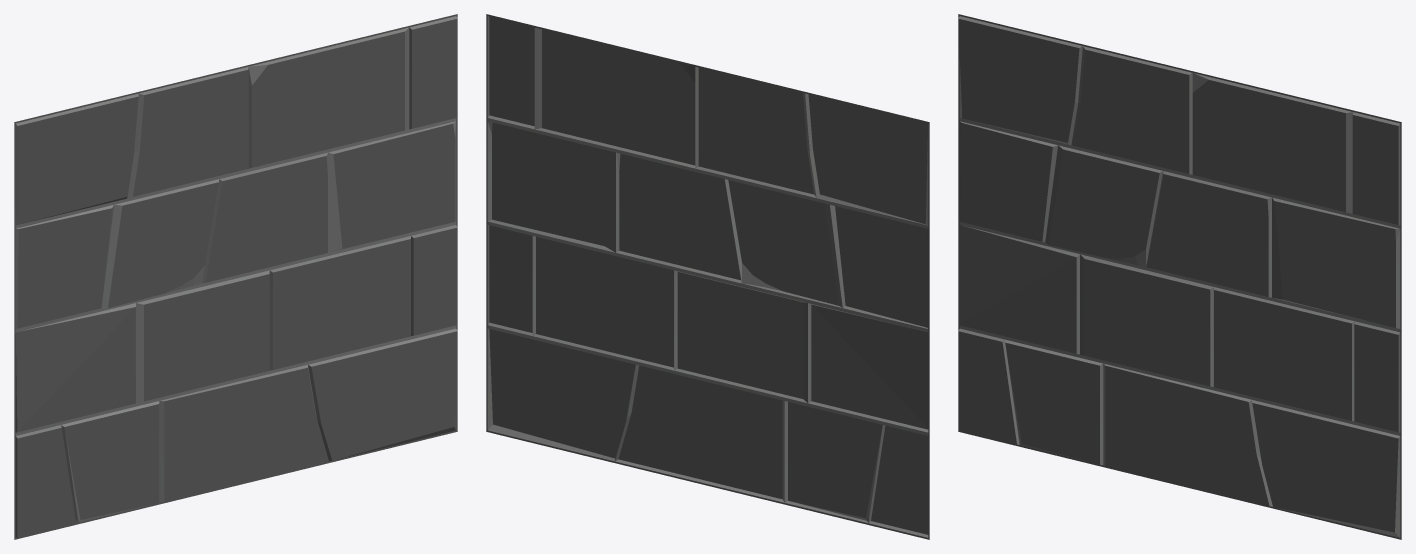
File: Wall_03.fbx
The picture shows the model from 3 angles, left to right: view 1: azimuth 30°, elevation 25°; view 2: azimuth 150°, elevation 25°; view 3: azimuth 330°, elevation 25°; orthographic projection.
Parts seen in each view (by area): view 1: Wall_03; view 2: Wall_03; view 3: Wall_03.
Boxes of the visible parts, box(x1,y1,x2,y2) form: Wall_03: box(14, 14, 457, 539); Wall_03: box(486, 14, 929, 539); Wall_03: box(958, 14, 1401, 539).
Bounding box in the file's own units: 280 × 252 × 1.76.
